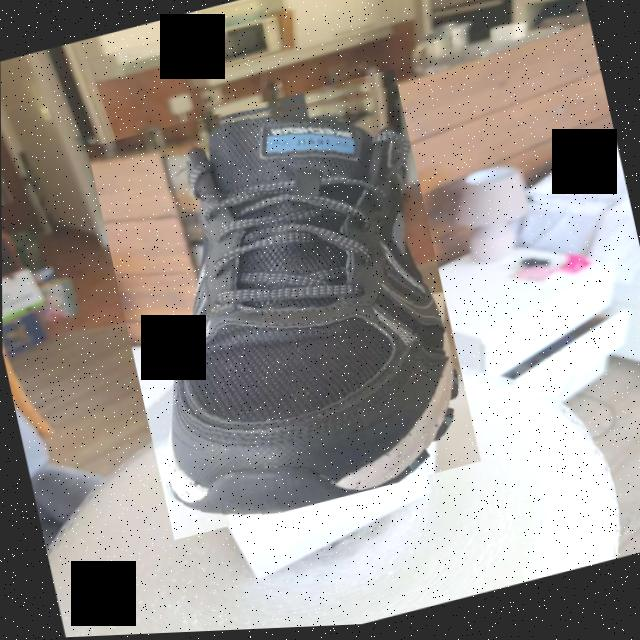shoe: (87, 69, 480, 544)
